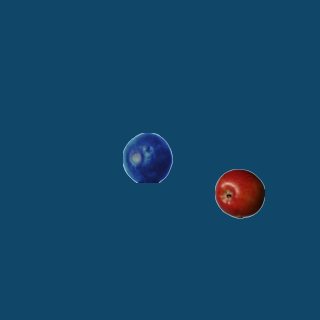Apple Braeburn: (214, 168, 264, 218)
Huckleberry: (122, 132, 172, 182)
